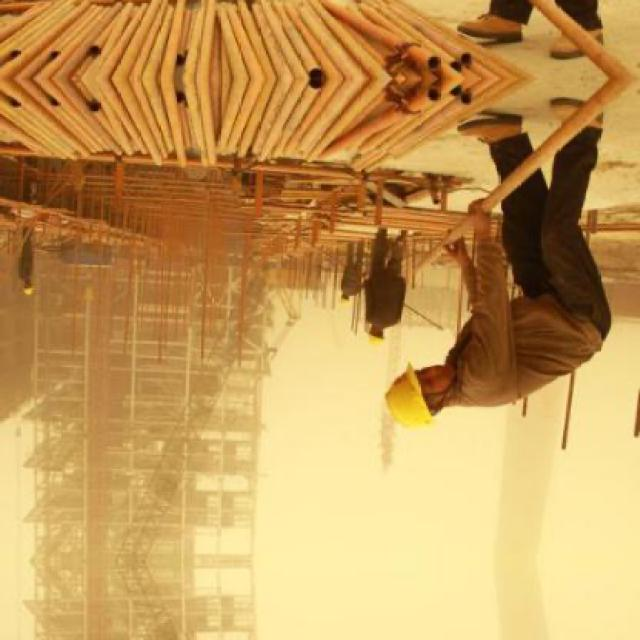con casco: (362, 320, 531, 452)
